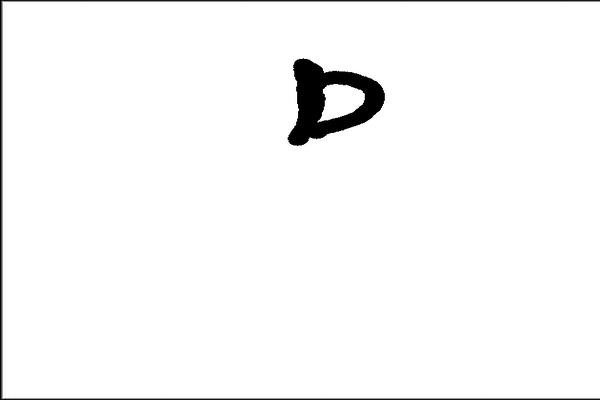D: (285, 51, 386, 150)
